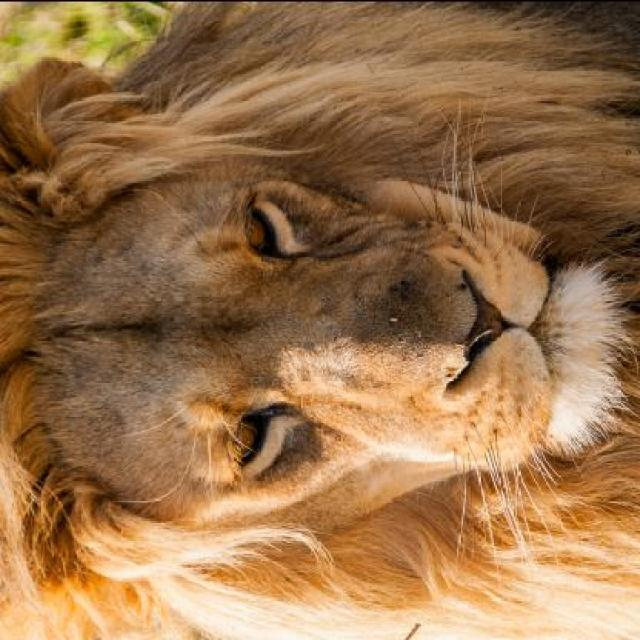Lion: (11, 48, 638, 637)
